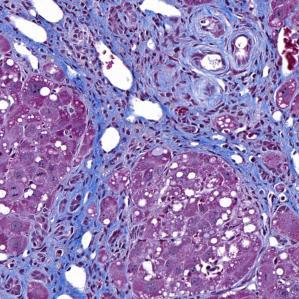fibrosis: (65, 3, 281, 150)
